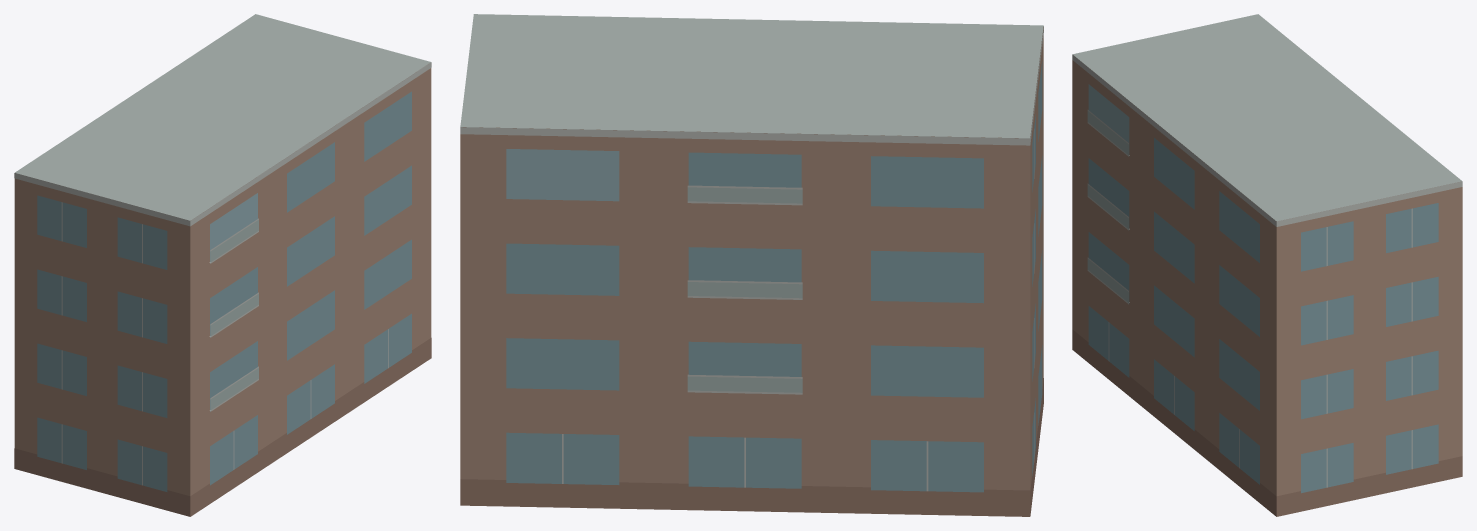
The model's file is survey-upis-32827763.glb.
3 renders of one model, left to right at view 1: azimuth 30°, elevation 25°; view 2: azimuth 150°, elevation 25°; view 3: azimuth 270°, elevation 25°, orthographic. The views are drawn at different scales.
Visible parts, largest first — view 1: survey-upis-32827763.tmp; view 2: survey-upis-32827763.tmp; view 3: survey-upis-32827763.tmp.
Boxes of the visible parts, box(x1,y1,x2,y2) form: survey-upis-32827763.tmp: box(14, 14, 431, 516); survey-upis-32827763.tmp: box(460, 14, 1043, 516); survey-upis-32827763.tmp: box(1072, 14, 1462, 516).
Bounding box in the file's own units: 19.29 × 12.8 × 15.33.
